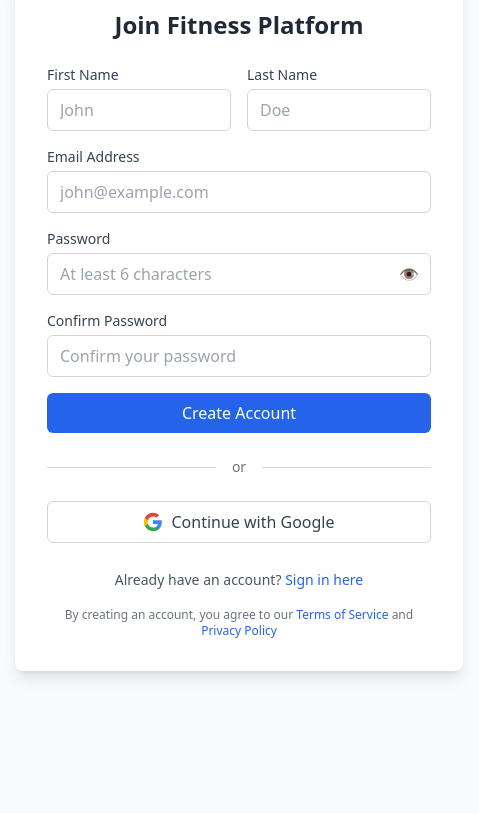
Test: SignupForm › should validate name fields length
# Test minimum length
Type "A" into the field labelled "First Name".
click(139, 110); type("A")  # box [47,89,231,131]
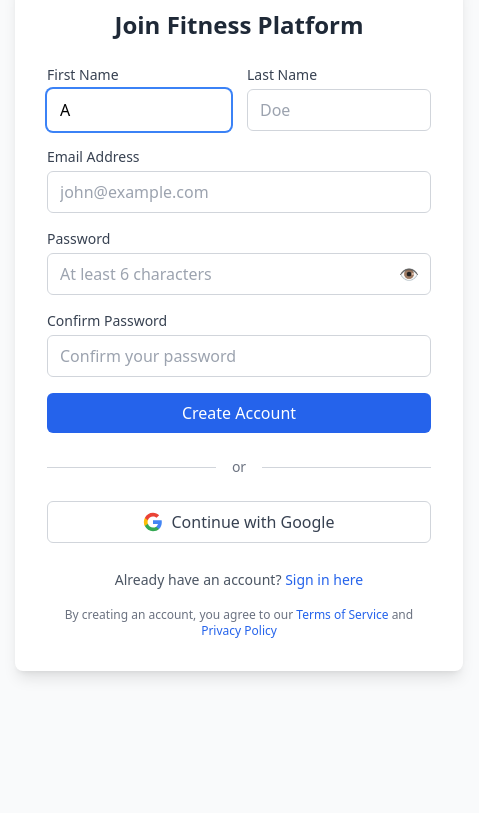
Type "B" into the field labelled "Last Name".
click(339, 110); type("B")  # box [247,89,431,131]
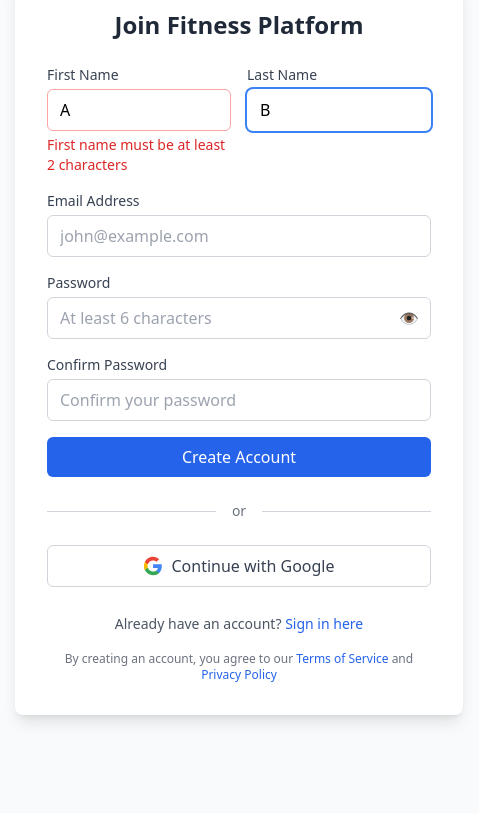
Click the button "Create Account".
click(239, 457)  # box [47,437,431,477]
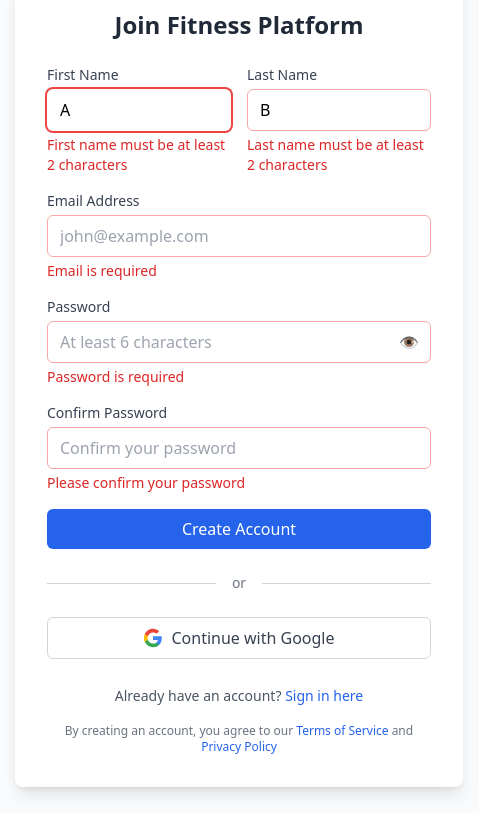
Check: the text "First name must be at least 2 characters" is shown, box [47,135,231,175]
Check: the text "Last name must be at least 2 characters" is shown, box [247,135,431,175]
